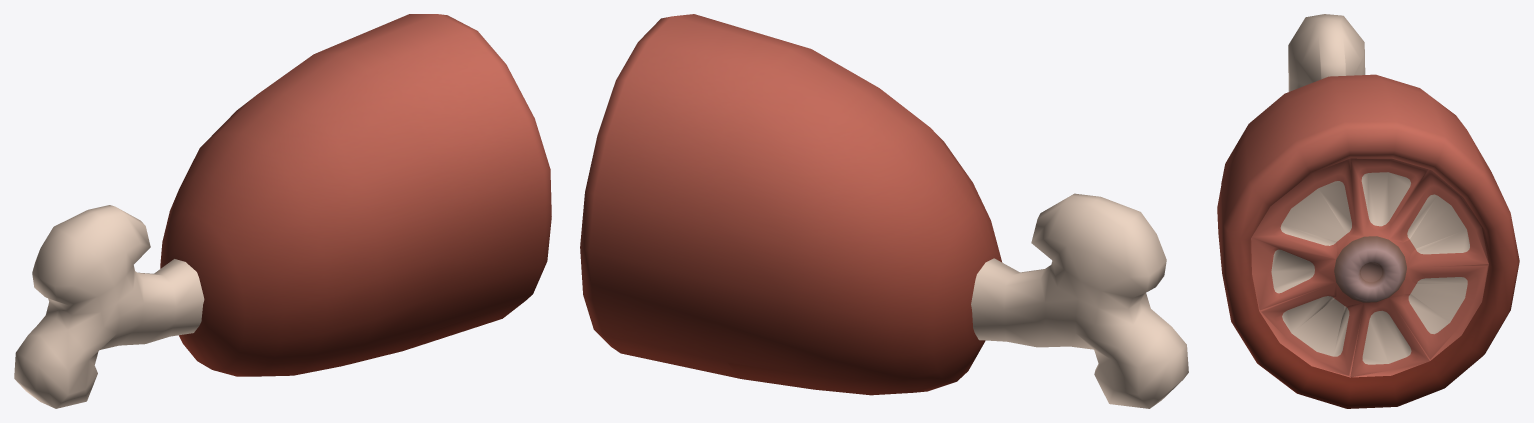
The model's file is domuz-et.fbx.
3 renders of one model, left to right at view 1: azimuth 30°, elevation 25°; view 2: azimuth 150°, elevation 25°; view 3: azimuth 270°, elevation 25°, orthographic. The views are drawn at different scales.
Visible parts, largest first — view 1: domuz_et; view 2: domuz_et; view 3: domuz_et.
Part boxes in pixels (<box>): domuz_et: <box>14,14,551,408</box>; domuz_et: <box>580,14,1188,408</box>; domuz_et: <box>1217,14,1519,408</box>.
Size of the model in its own units: 645 by 375 by 357.
Materials: 2 (1 with a texture image).
